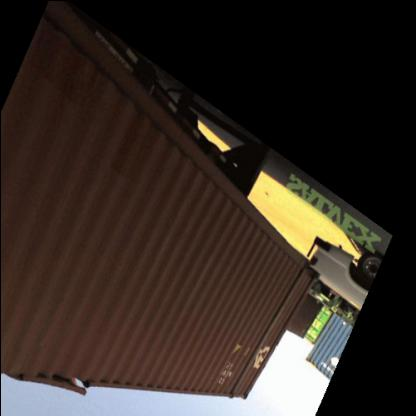Damage: (228, 268, 306, 396), (9, 359, 164, 397)
